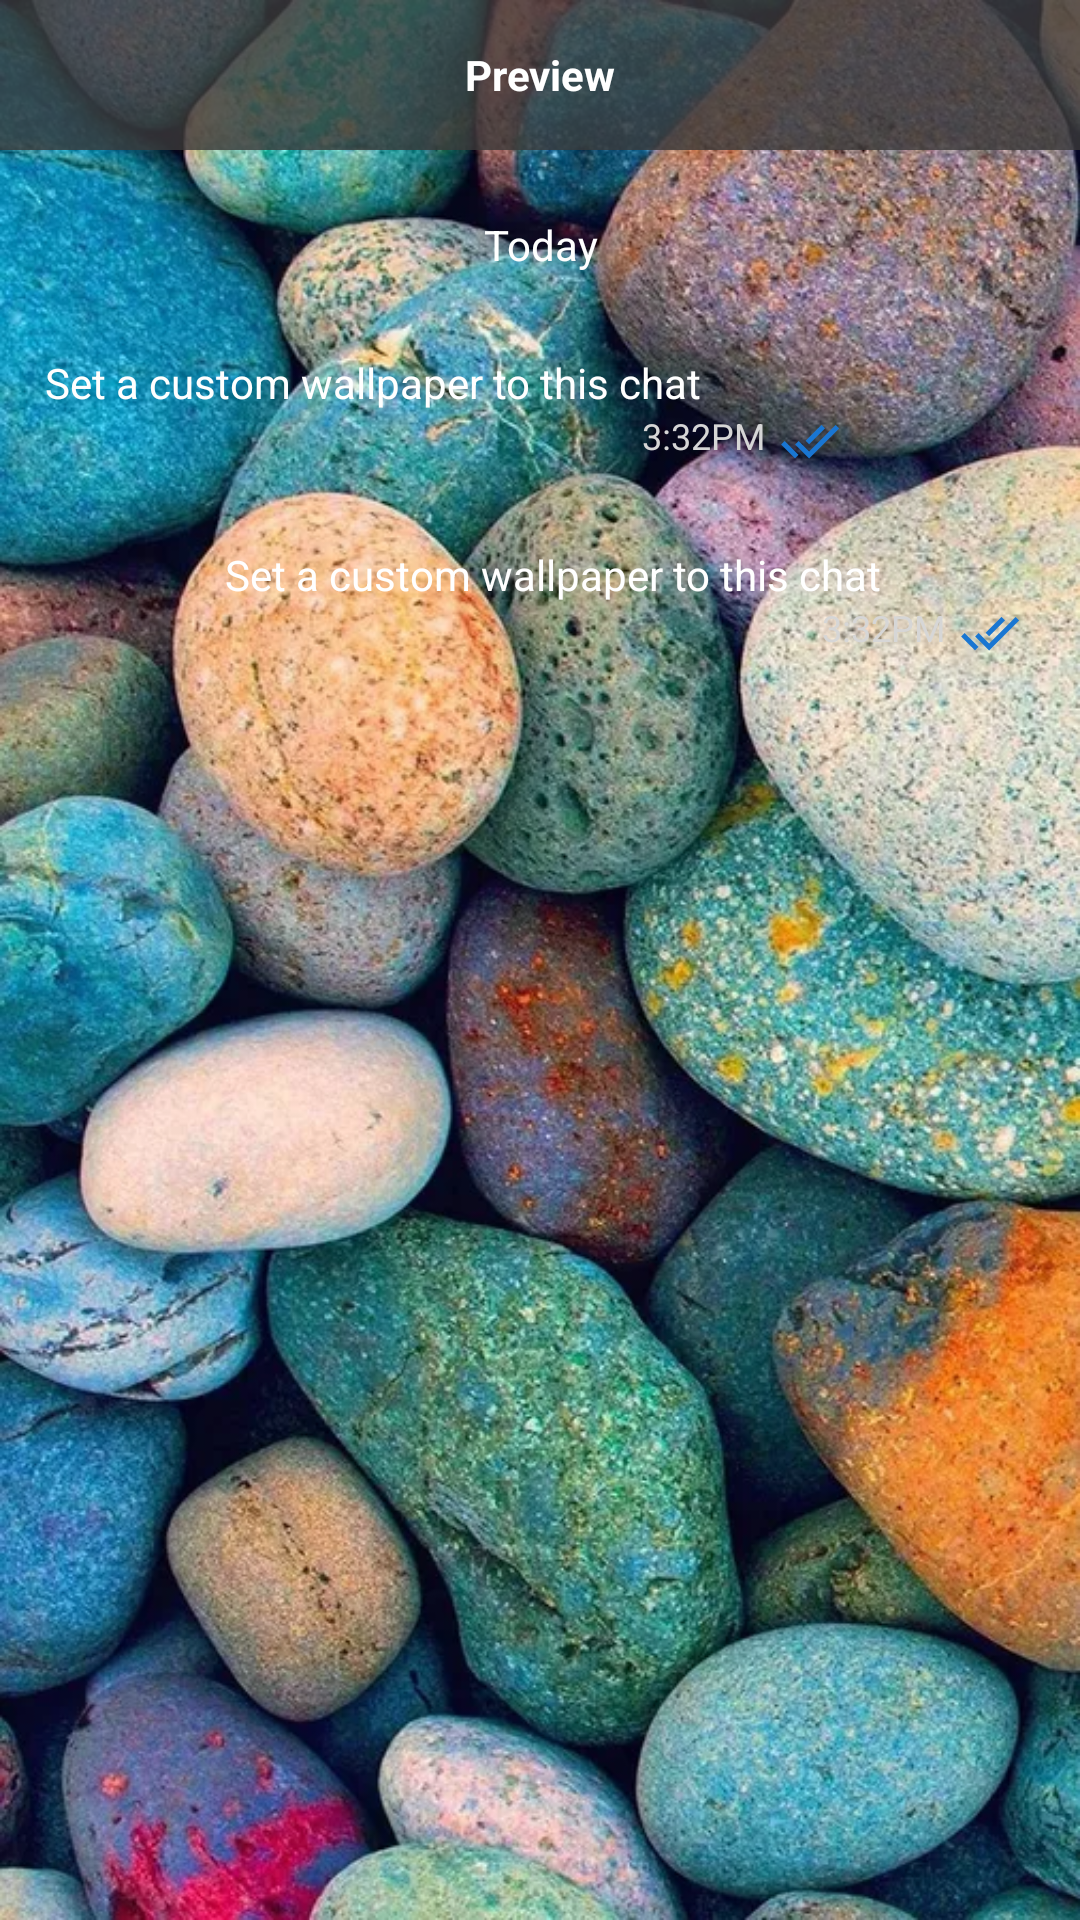

Where to tap for icons on this 1080px×1920px app screen, as (x=x, y=y):
done all seen: (x=810, y=441), (x=990, y=633)
